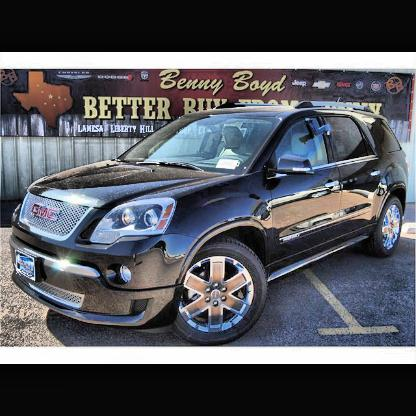GMC Acadia SUV 2012: (9, 102, 411, 343)
